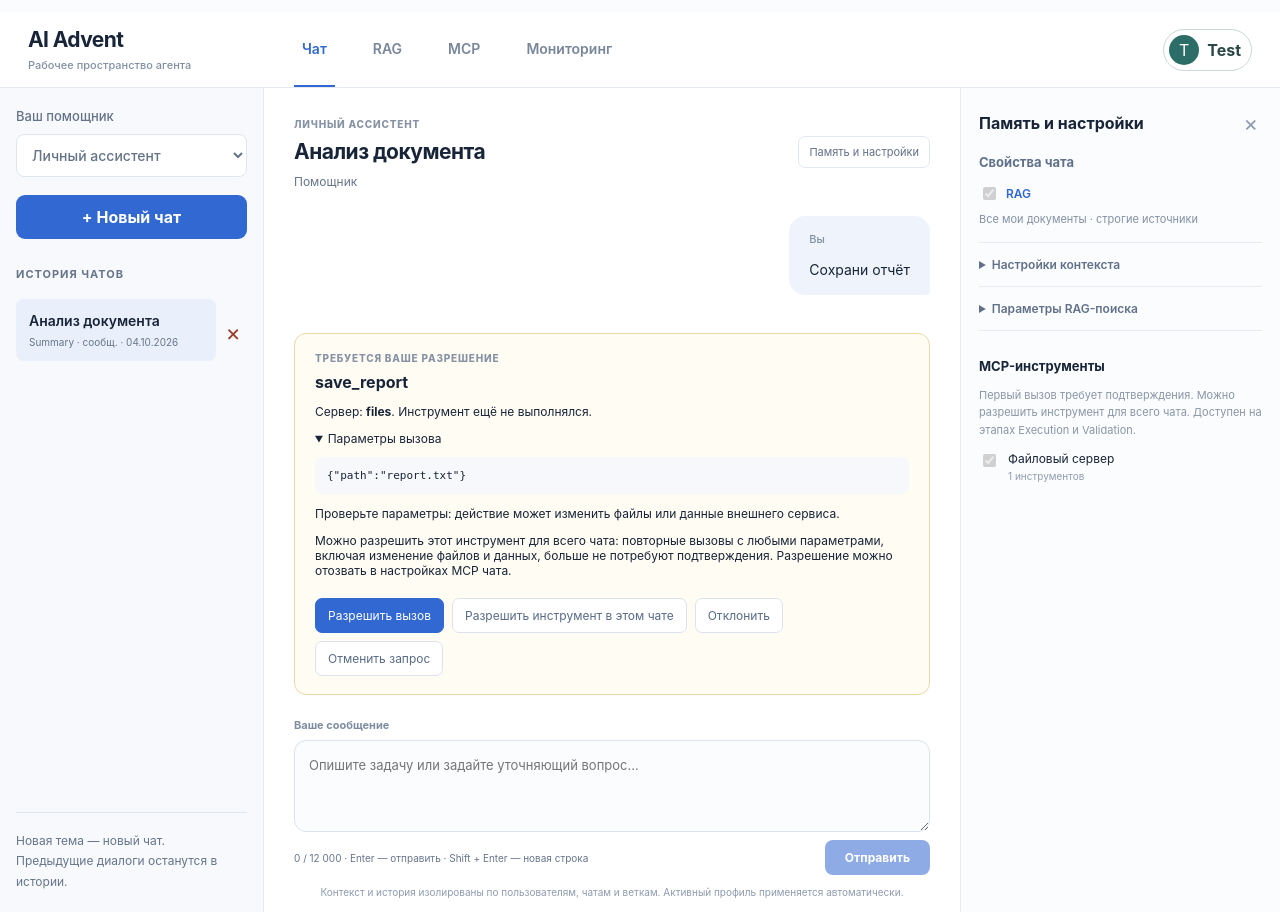
restores a pending tool confirmation after reload and never approves without user action
(page scrolled)
Check: the heading "save_report" is shown, box top-left (315, 372), bottom-right (408, 392)
Check: the text "Сохрани отчёт" is shown, box top-left (809, 258), bottom-right (910, 281)
Click the button "Разрешить вызов". click: click(380, 615)
box: top-left (315, 598), bottom-right (444, 633)
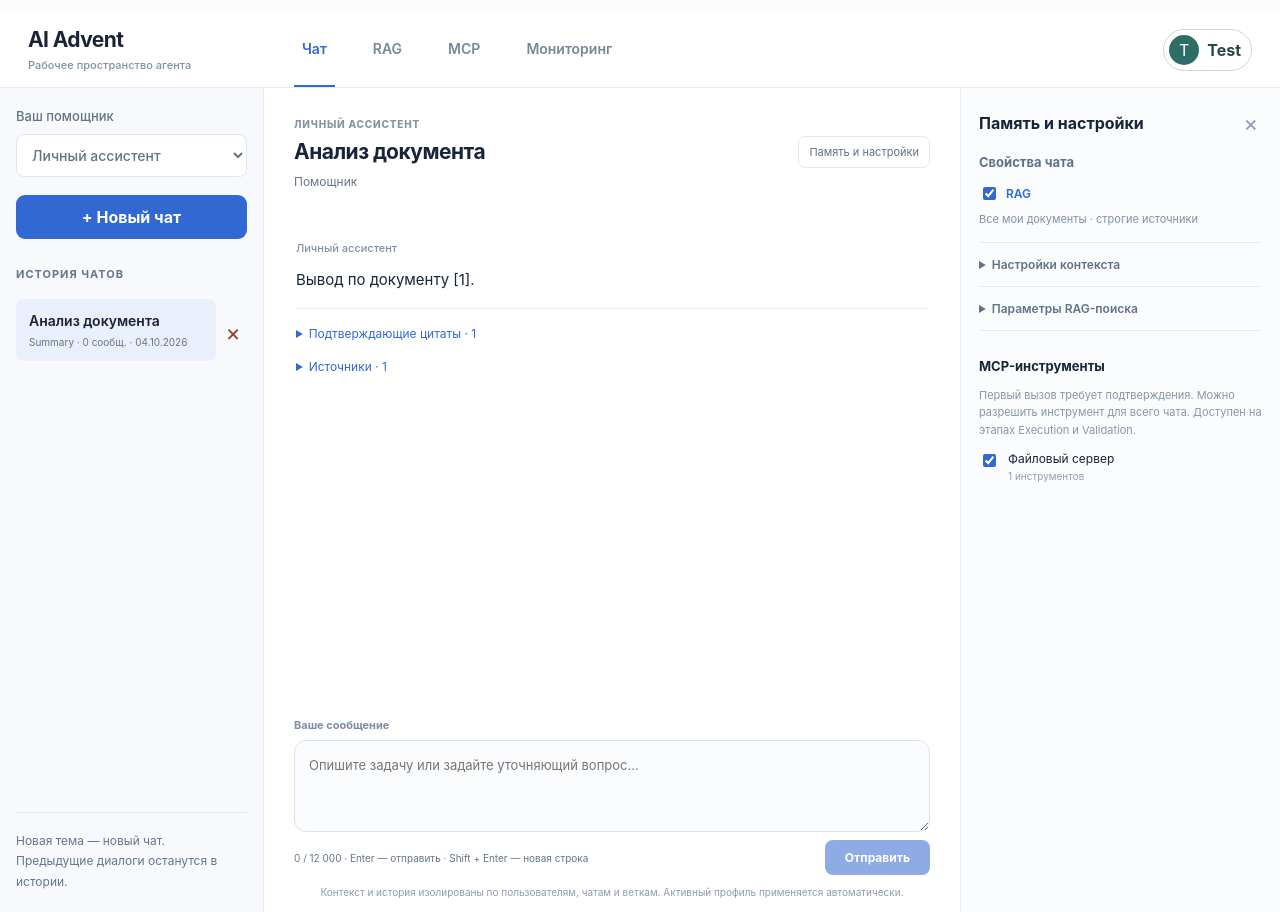
Check: the text "Вывод по документу [1]." is shown, box top-left (296, 270), bottom-right (475, 289)
